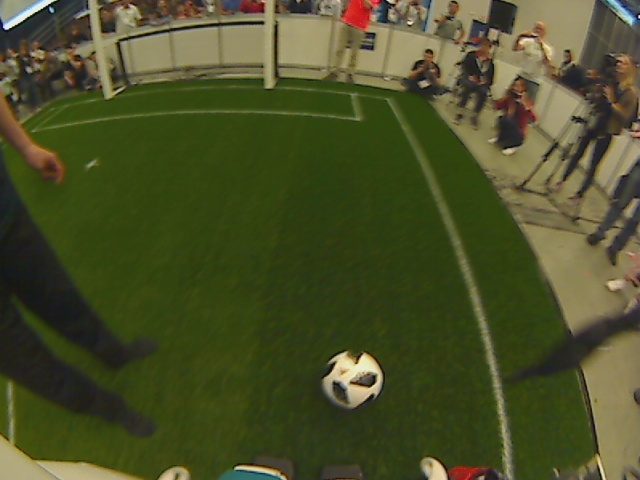ball: (317, 347, 386, 412)
